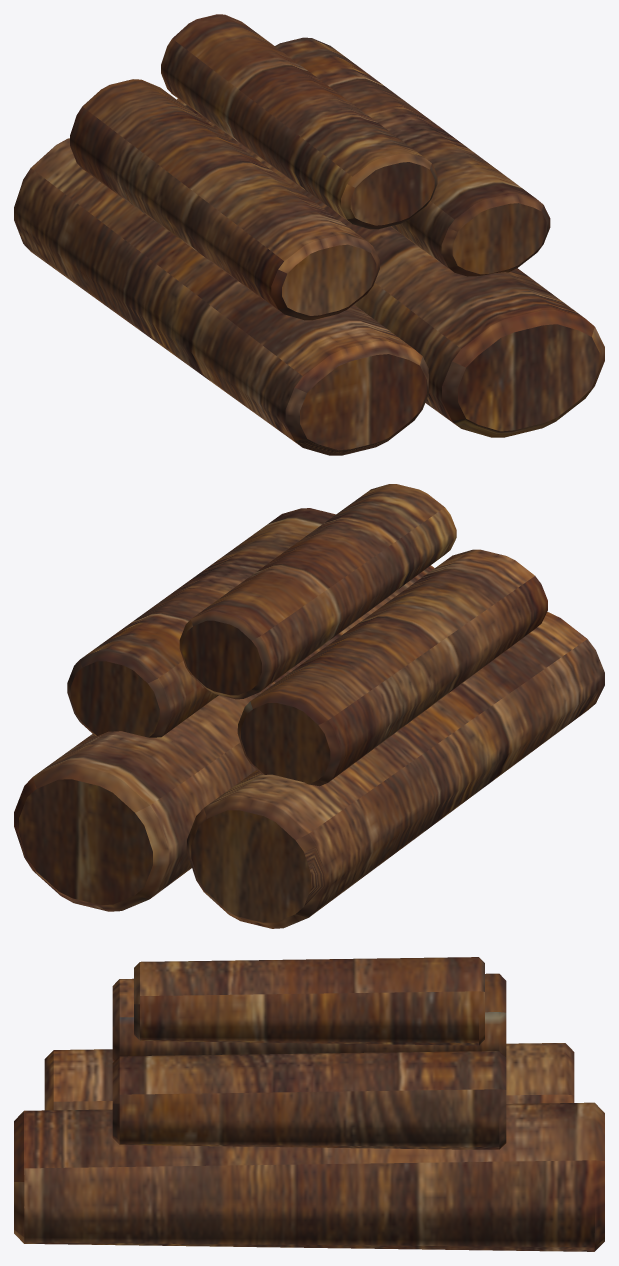
File: Wood.fbx
3 renders of one model, top to bottom at view 1: azimuth 30°, elevation 25°; view 2: azimuth 150°, elevation 25°; view 3: azimuth 270°, elevation 25°, orthographic. The views are drawn at different scales.
Parts seen in each view (by area): view 1: Wood1; view 2: Wood1; view 3: Wood1.
Part boxes in pixels (left/top/right/bottom): Wood1: left=14, top=14, right=604, bottom=455; Wood1: left=14, top=484, right=604, bottom=928; Wood1: left=14, top=957, right=604, bottom=1251.
Bounding box in the file's own units: 1.57 × 1.31 × 2.84.
Materials: 1 (1 with a texture image).
